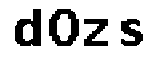0: (46, 6, 81, 52)
d: (12, 7, 45, 49)
s: (117, 17, 145, 52)
z: (82, 17, 112, 53)
